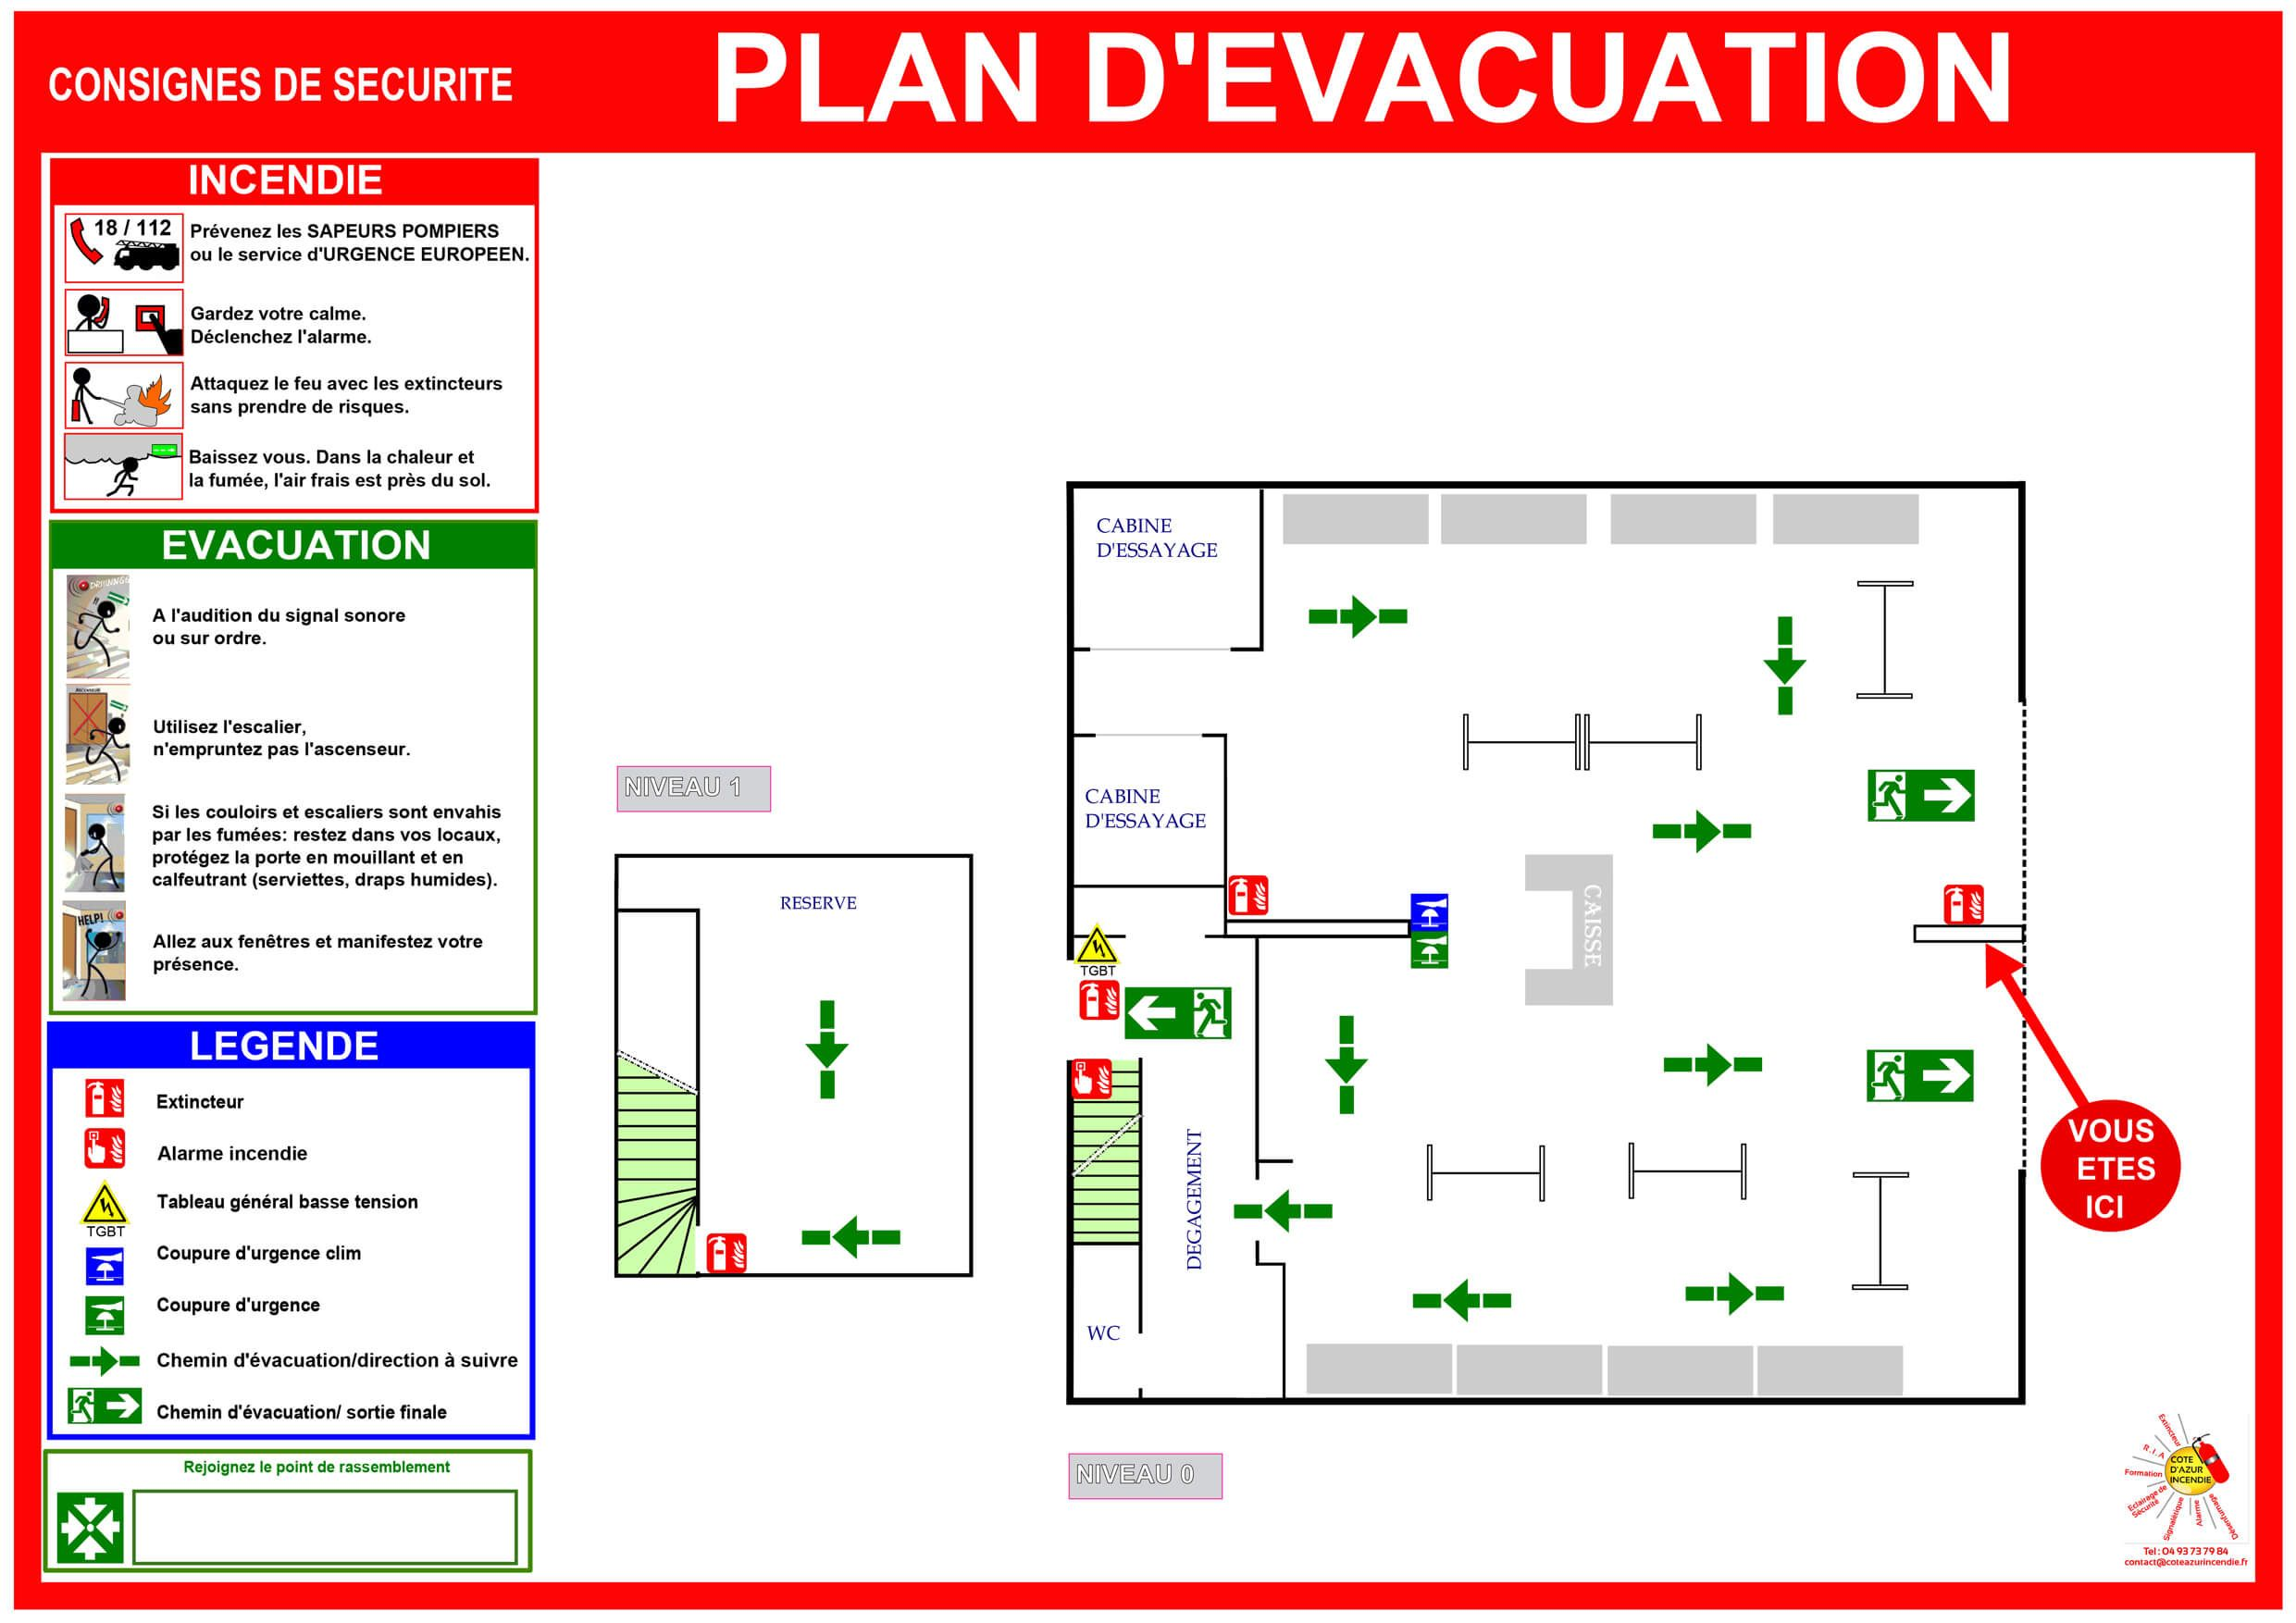legend: (44, 1015, 543, 1442)
plan: (1061, 474, 2034, 1414)
